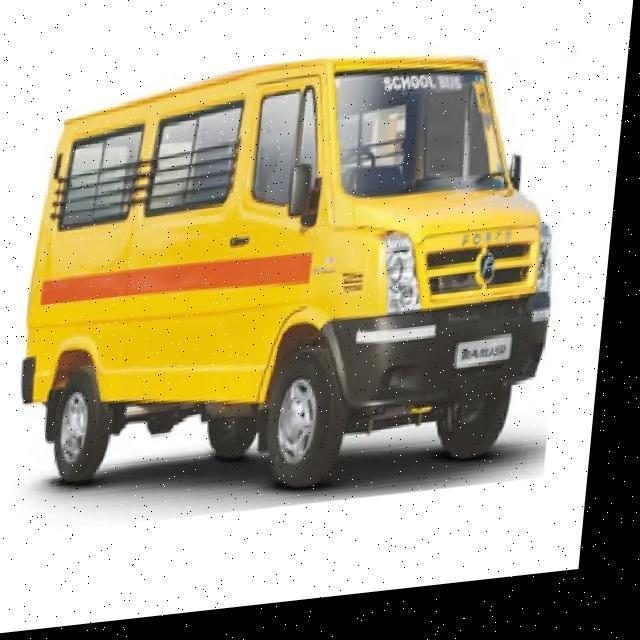Ambulance: (14, 38, 582, 527)
